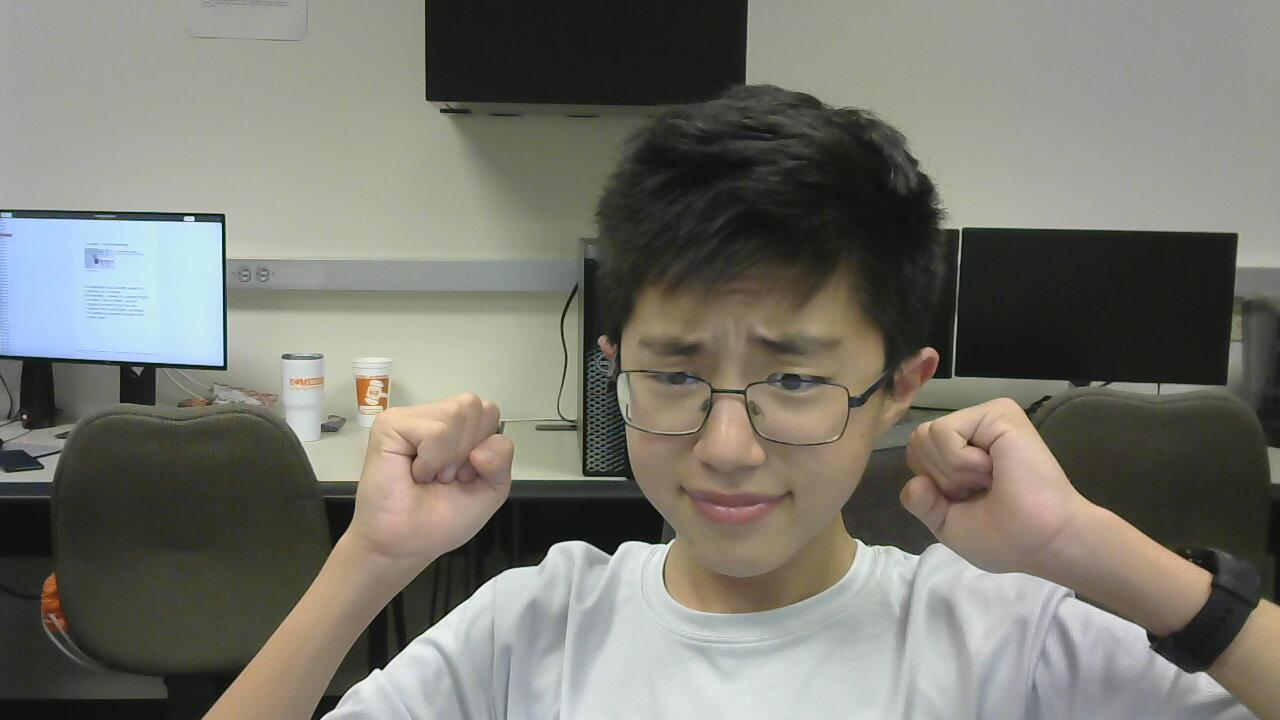fist: (883, 392, 1094, 584), (331, 392, 539, 578)
